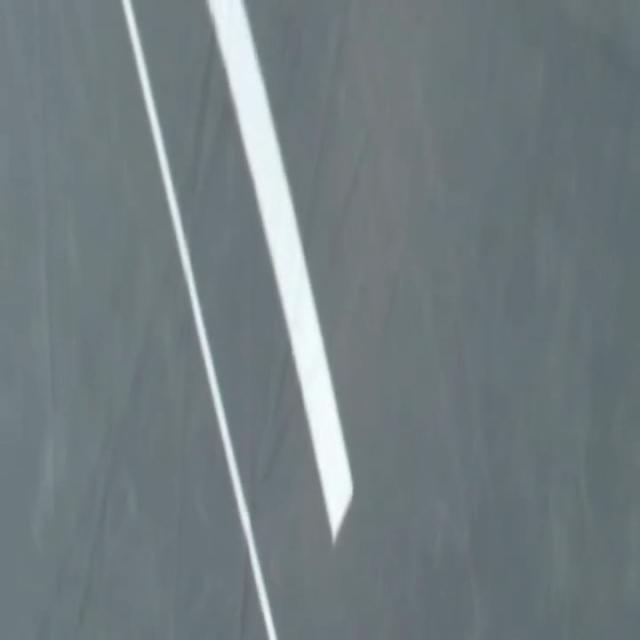center: (207, 0, 351, 542)
